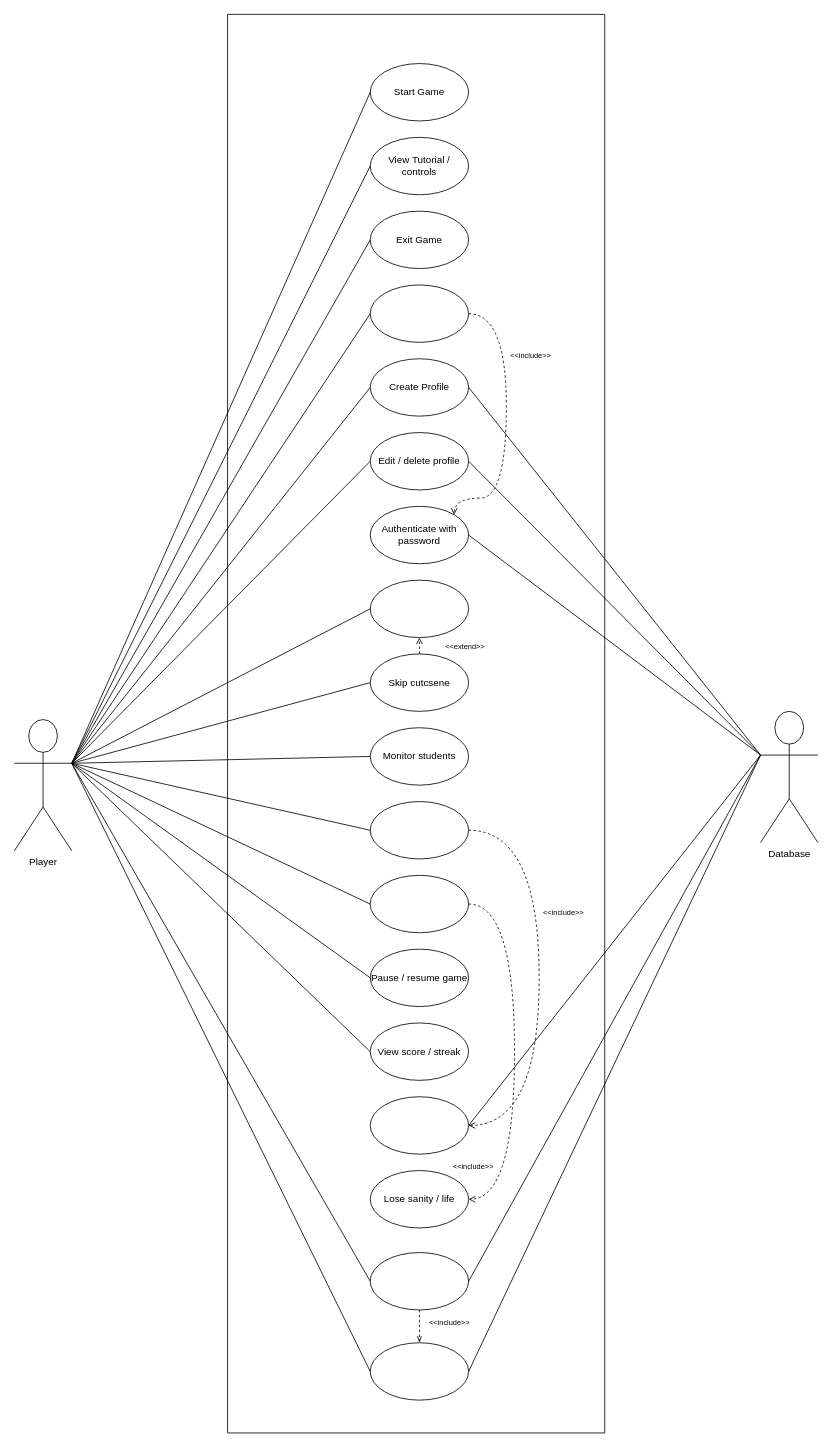
The diagram is 832 pixels wide and 1447 high, and some of its shapes have lost their labels. Here are the shapes that lost their labels. From the top down, the centre of each, then its label:
(x=419, y=313): Select Profile
(x=419, y=608): Watch cutscene
(x=419, y=830): Catch cheater
(x=419, y=904): Falsely accused student
(x=419, y=1125): Update score
(x=419, y=1281): View game over results
(x=419, y=1371): View leaderboard
